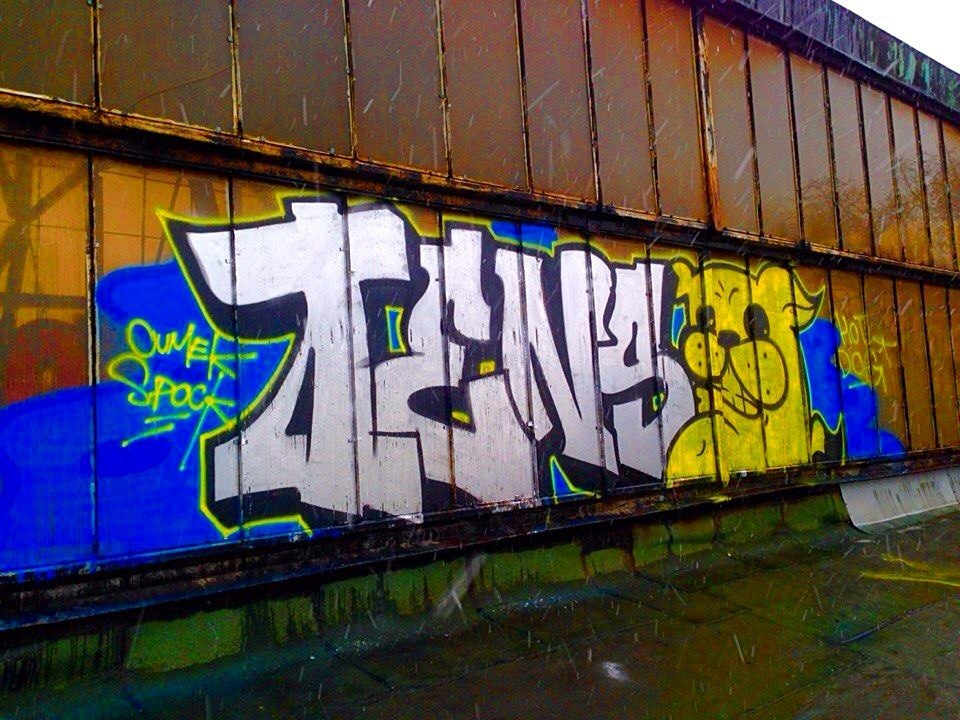graffity: (1, 180, 911, 587)
